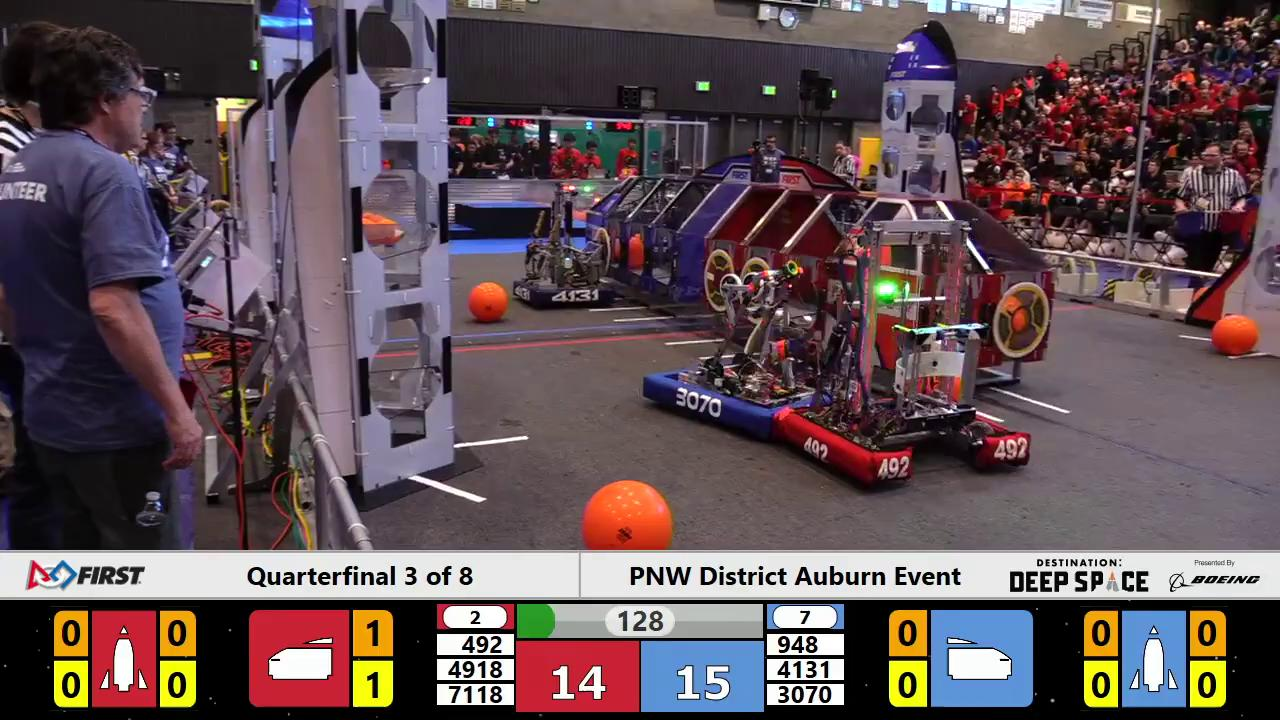robot: (776, 231, 1022, 489), (638, 259, 832, 436), (512, 192, 612, 306)
